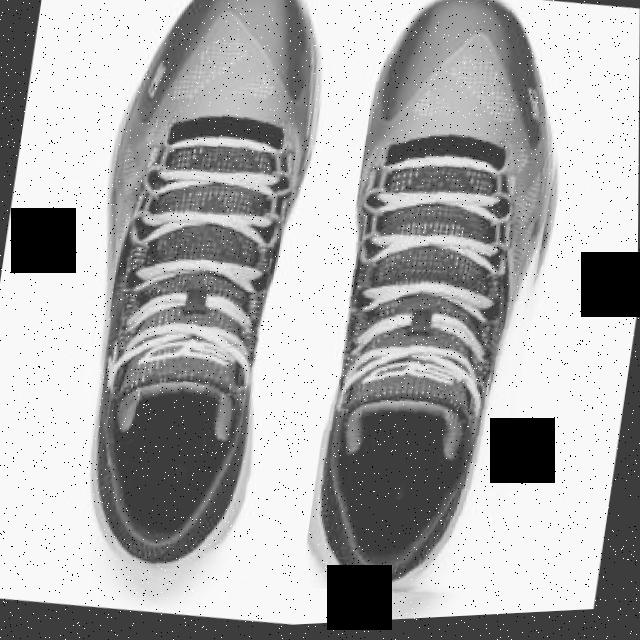shoe: (301, 0, 586, 620), (54, 0, 339, 595)
